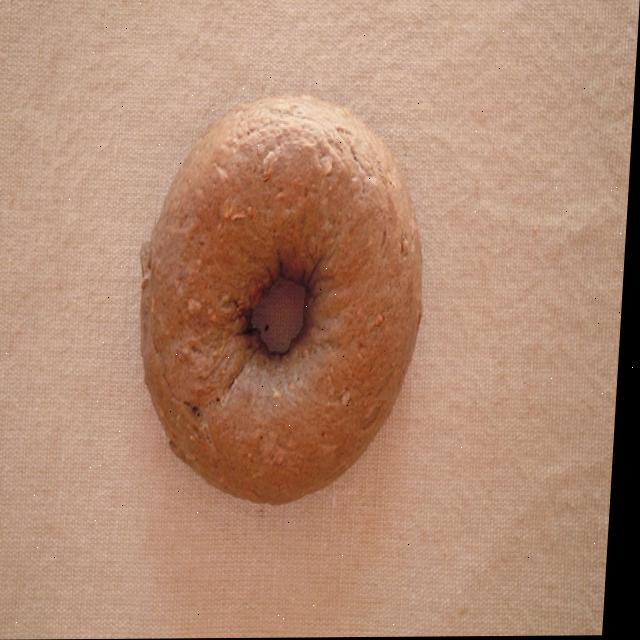面包点心: (130, 93, 442, 518)
